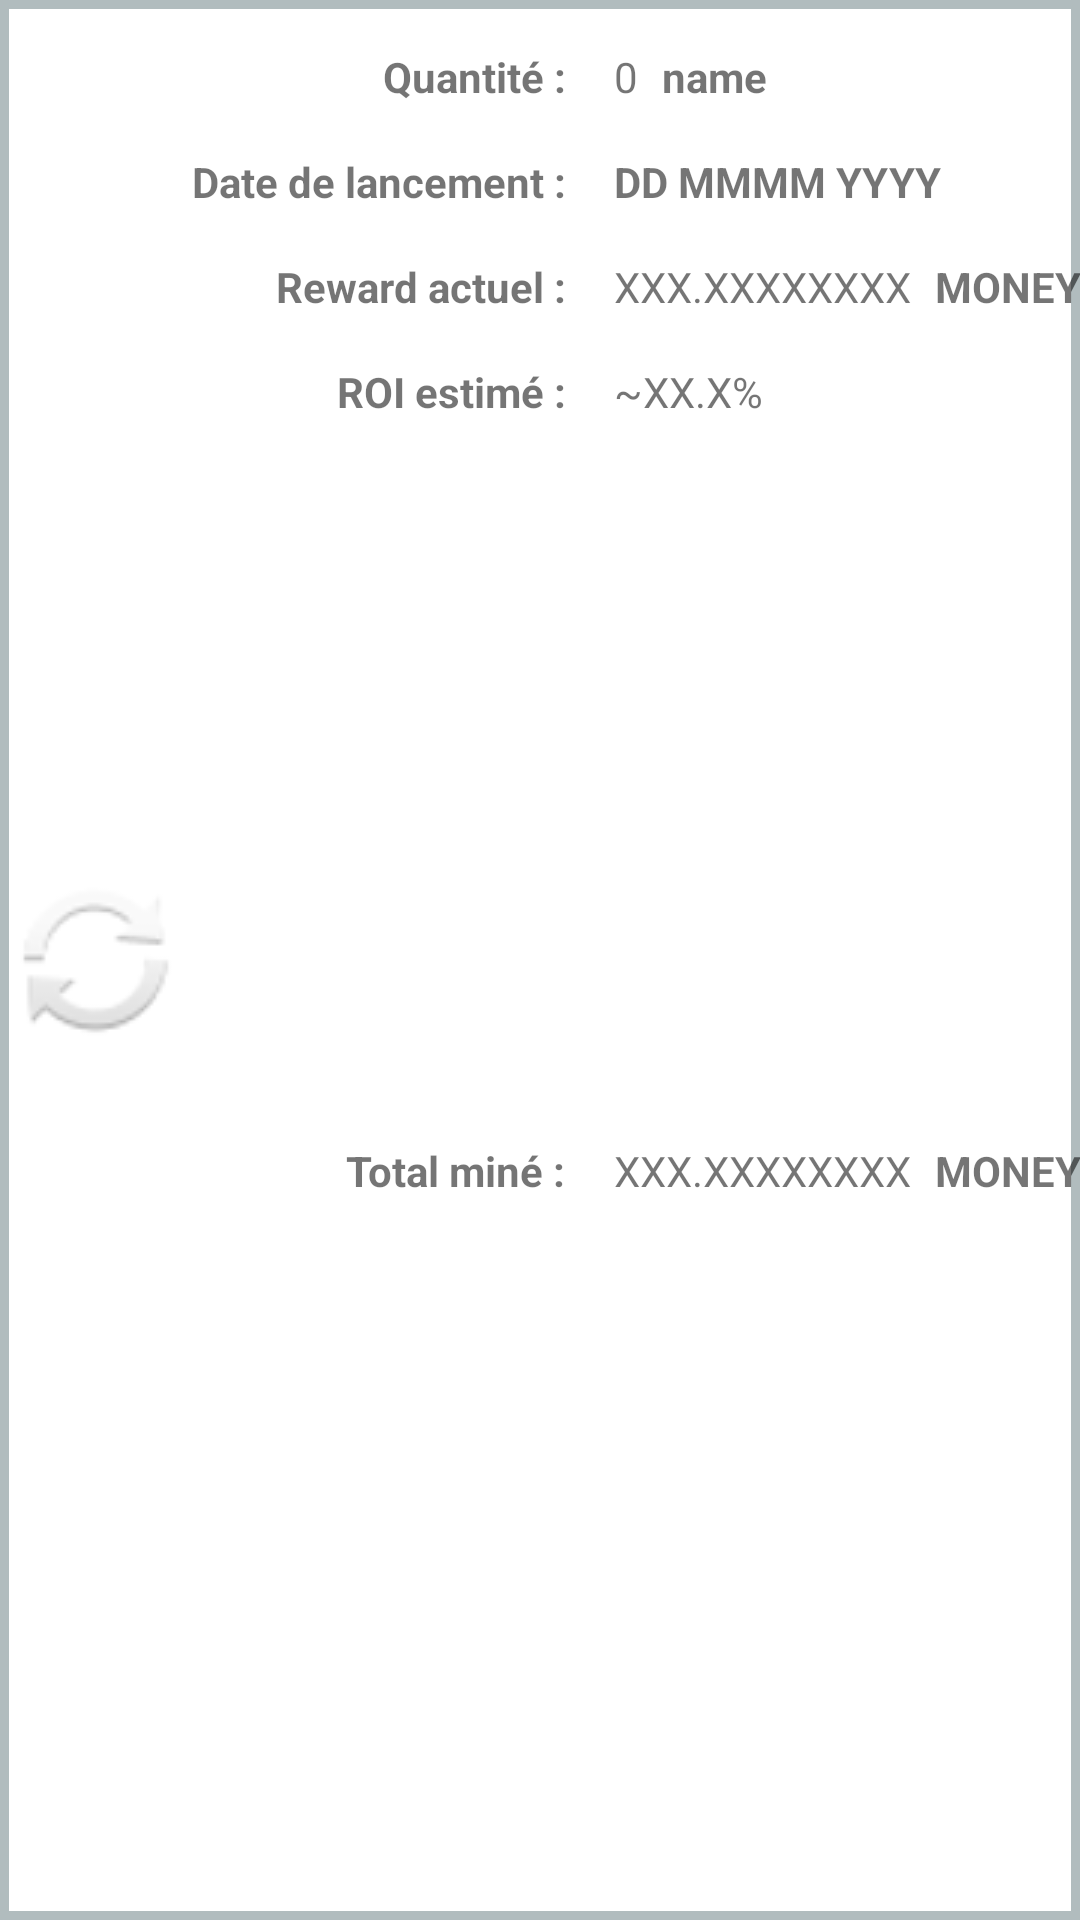

Icons on this 1080 x 1920 Android screen, each with the point to tap as point (x, y):
popup sync: point (95, 968)
